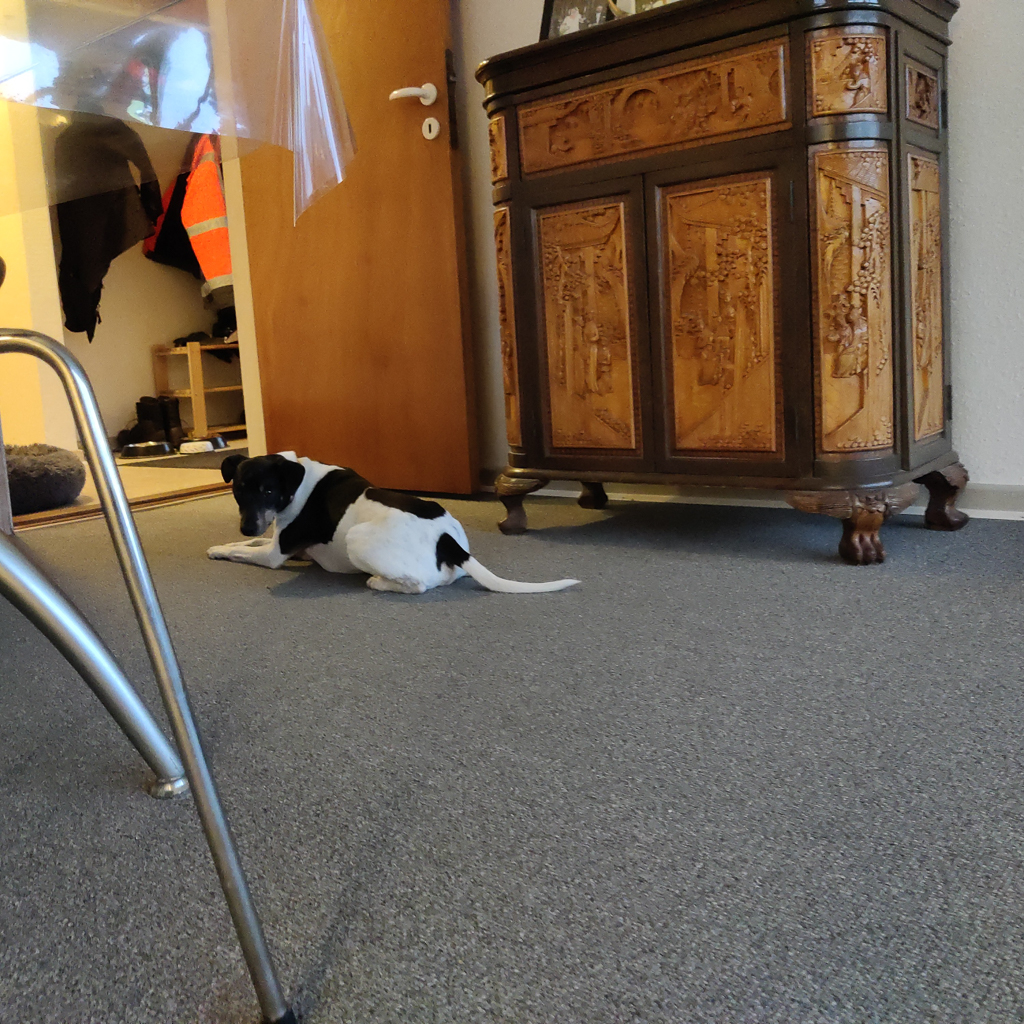Dog: (184, 440, 610, 616)
